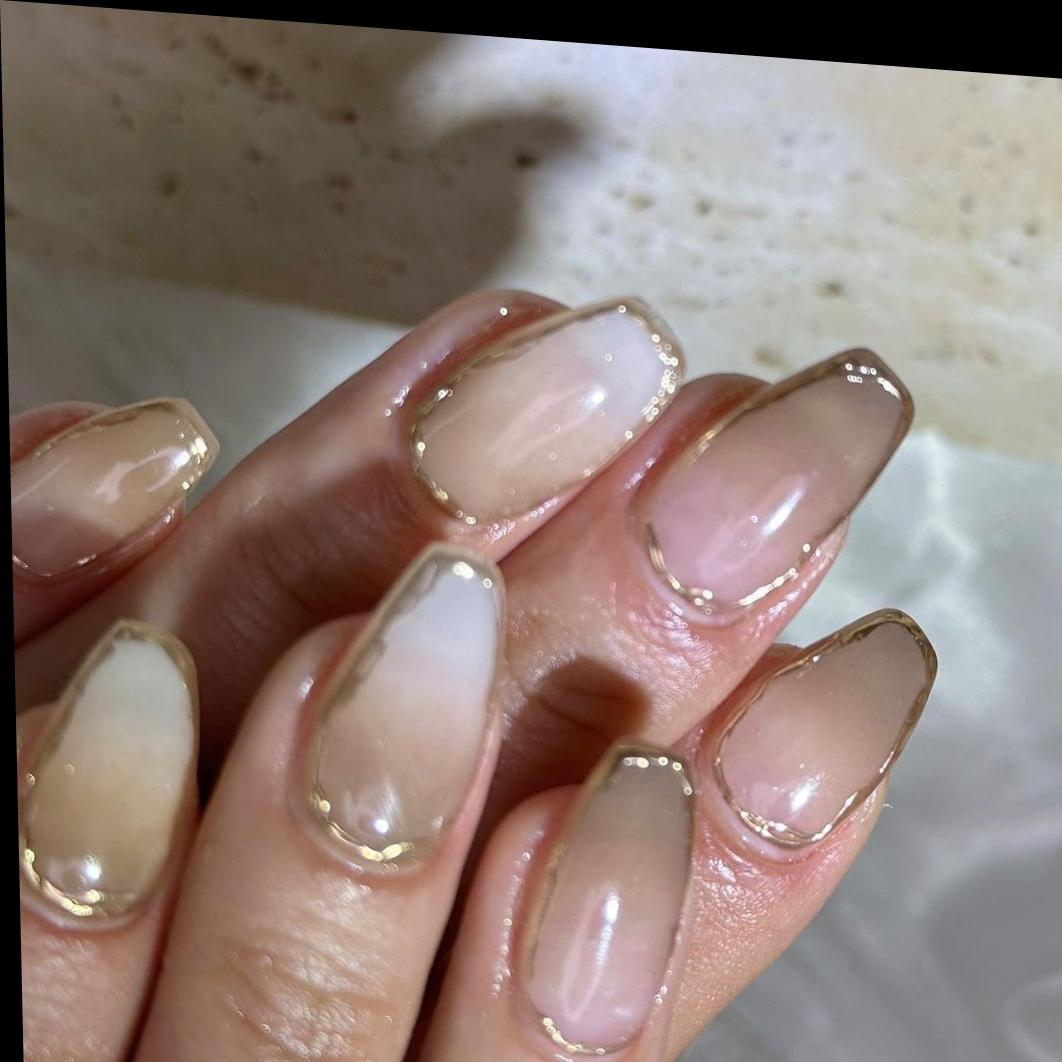nail: (634, 332, 921, 636), (294, 531, 515, 884), (403, 280, 689, 547), (700, 595, 943, 868), (14, 611, 207, 938), (517, 731, 702, 1062), (9, 384, 222, 597)
